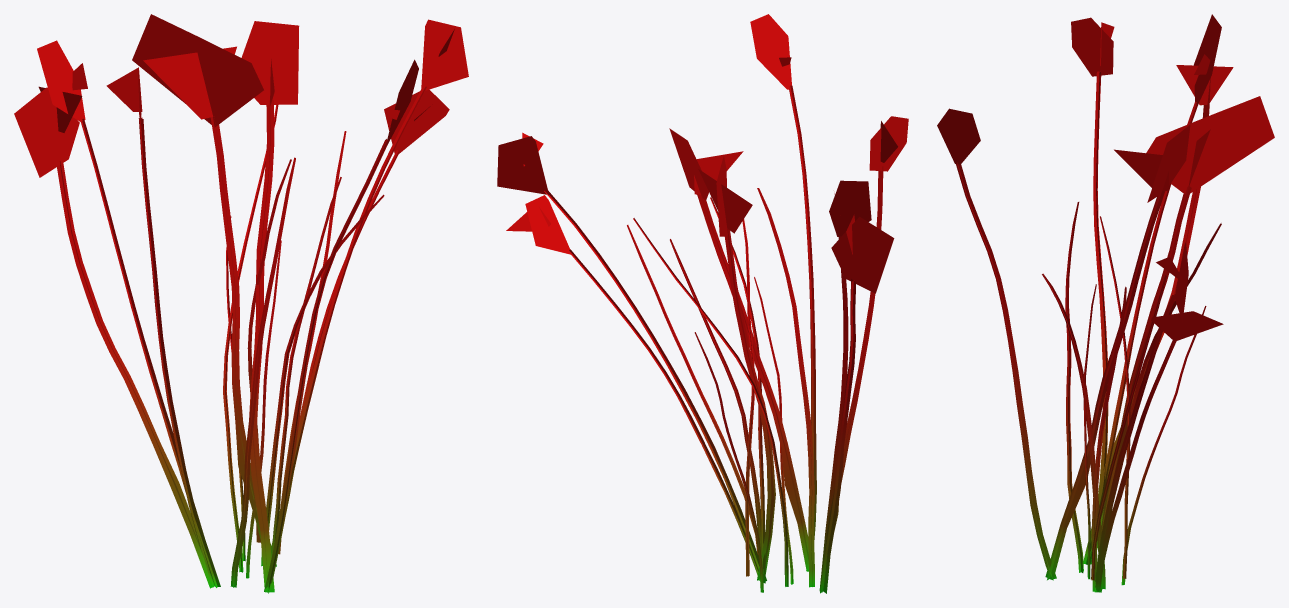
The model's file is Var7_LOD0.fbx.
3 views of the same model, side by side, from view 1: azimuth 30°, elevation 25°; view 2: azimuth 150°, elevation 25°; view 3: azimuth 270°, elevation 25° (orthographic). The views are drawn at different scales.
Parts seen in each view (by area): view 1: _5b3e_Var7_LOD0; view 2: _5b3e_Var7_LOD0; view 3: _5b3e_Var7_LOD0.
Boxes of the visible parts, x1,y1,x2,y2 form: _5b3e_Var7_LOD0: [14, 14, 468, 593]; _5b3e_Var7_LOD0: [497, 14, 908, 593]; _5b3e_Var7_LOD0: [937, 14, 1274, 592].
Bounding box in the file's own units: 131 × 154 × 90.82.
